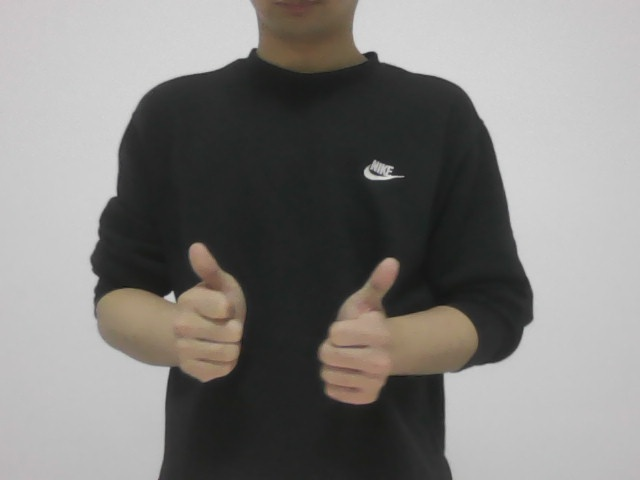friend: (164, 225, 414, 411)
